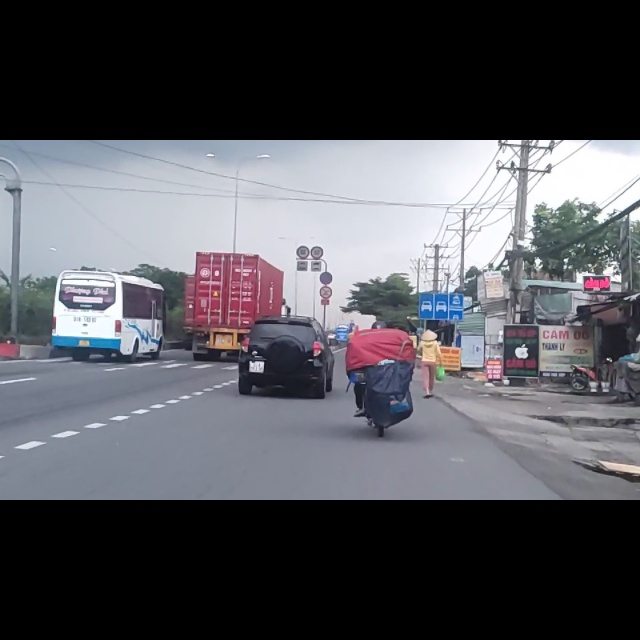bien_cam: (418, 271, 464, 322), (319, 233, 333, 257), (320, 260, 332, 282)
